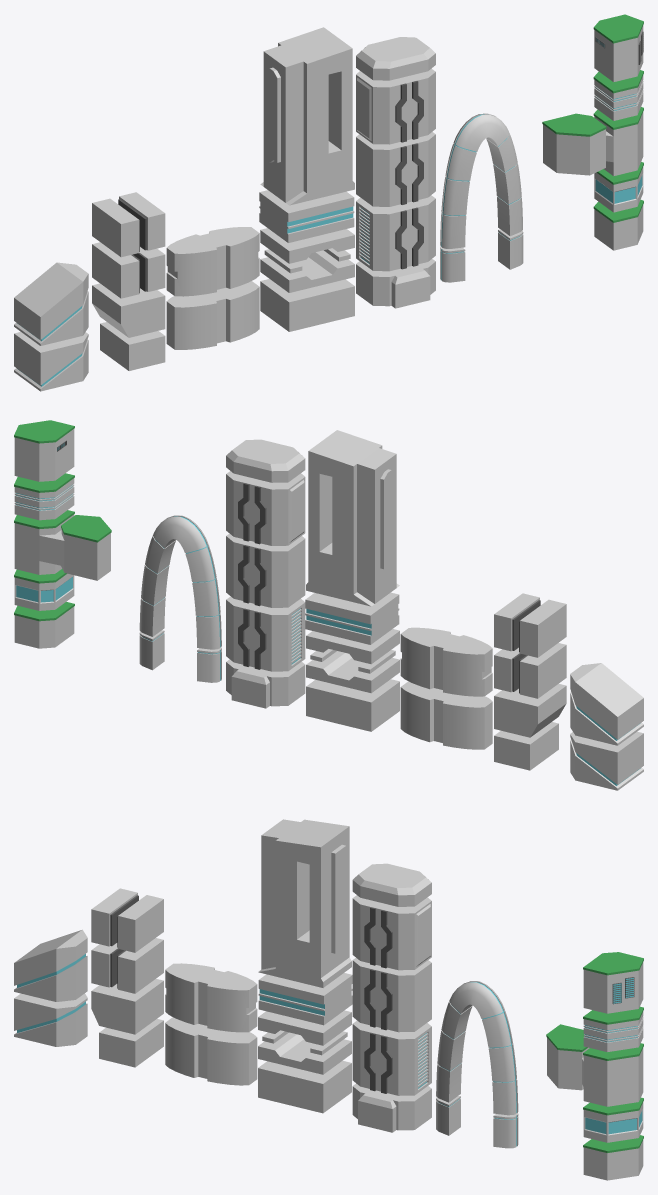
The model's file is SkyScraper Set.fbx.
3 renders of one model, top to bottom at view 1: azimuth 30°, elevation 25°; view 2: azimuth 150°, elevation 25°; view 3: azimuth 330°, elevation 25°, orthographic.
Parts seen in each view (by area): view 1: SkyO, Sky arch, Sky tower split, Cyllinder sky groove, Sky Hex grill, Sky hex plate, Sky hex, Cyllinder sky, DiagonalSky Top, USky U Top, Sky bottom, Sky Window (+14 smaller); view 2: SkyO, Sky arch, Sky tower split, Cyllinder sky groove, Sky Hex grill, Sky hex plate, Sky hex, Cyllinder sky, DiagonalSky Top, USky U Top, Sky Window, Sky bottom (+14 smaller); view 3: SkyO, Sky arch, Sky tower split, Cyllinder sky groove, Sky Hex grill, Sky hex plate, Sky hex, Cyllinder sky, DiagonalSky Top, USky U Top, Sky bottom, Sky Window (+14 smaller).
Part boxes in pixels (x1,y1,x2,y2): SkyO: (260, 27, 354, 205); Sky arch: (440, 113, 522, 248); Sky tower split: (542, 107, 643, 176); Cyllinder sky groove: (166, 227, 259, 296); Sky Hex grill: (356, 195, 435, 271); Sky hex plate: (356, 68, 435, 144); Sky hex: (356, 132, 435, 206); Cyllinder sky: (166, 281, 259, 349); DiagonalSky Top: (14, 262, 88, 345); USky U Top: (92, 192, 165, 257); Sky bottom: (260, 279, 354, 331); Sky Window: (259, 190, 354, 242); SkyO: (306, 430, 399, 606); Sky arch: (139, 515, 221, 649); Sky tower split: (14, 510, 111, 580); Cyllinder sky groove: (400, 627, 492, 696); Sky Hex grill: (226, 596, 305, 671); Sky hex plate: (226, 471, 305, 545); Sky hex: (226, 533, 305, 607); Cyllinder sky: (400, 681, 492, 749); DiagonalSky Top: (570, 663, 643, 745); USky U Top: (494, 593, 566, 657); Sky Window: (305, 592, 399, 644); Sky bottom: (306, 679, 399, 731); SkyO: (258, 819, 351, 987); Sky arch: (436, 981, 518, 1115); Sky tower split: (546, 1024, 643, 1106); Cyllinder sky groove: (165, 963, 257, 1032); Sky Hex grill: (352, 1020, 431, 1095); Sky hex plate: (352, 895, 431, 970); Sky hex: (352, 958, 431, 1032); Cyllinder sky: (165, 1017, 257, 1085); DiagonalSky Top: (14, 929, 87, 1001); USky U Top: (91, 888, 163, 952); Sky bottom: (258, 1060, 351, 1113); Sky Window: (258, 973, 352, 1025).
Size of the model in its own units: 382 by 159 by 36.56.
